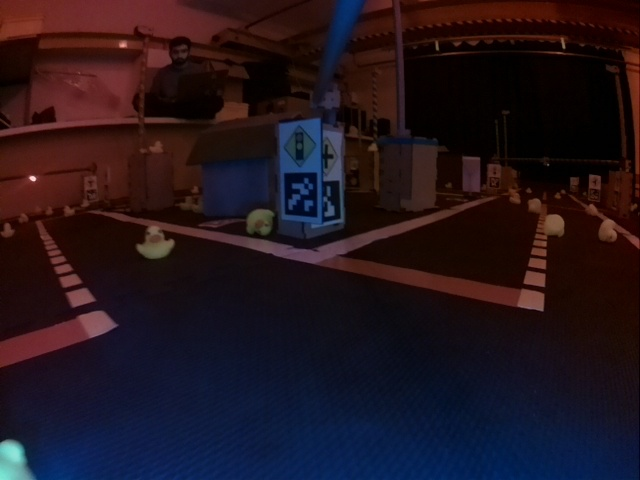Duckie: (137, 227, 174, 258), (246, 208, 273, 237), (545, 214, 564, 237), (598, 219, 616, 242), (148, 141, 163, 155), (529, 200, 541, 213), (62, 205, 72, 218)
Intersection sign: (322, 137, 338, 169)
QR code: (283, 172, 318, 215), (321, 181, 342, 223)
Signal sign: (283, 125, 316, 167)
